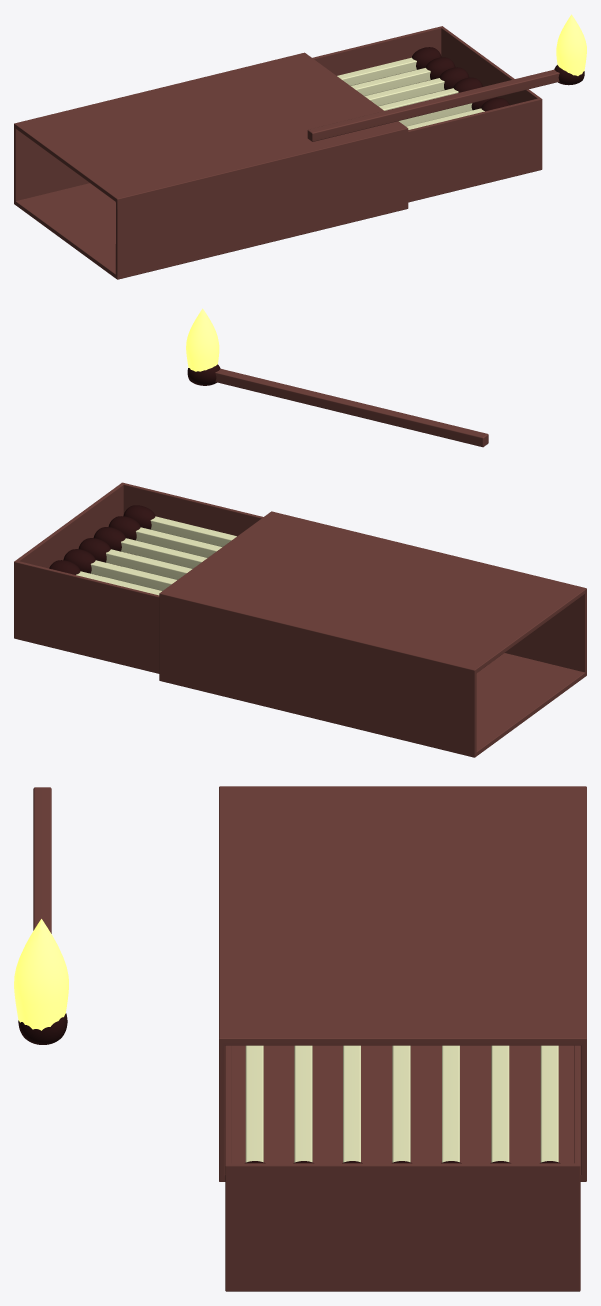
3 renders of one model, top to bottom at view 1: azimuth 30°, elevation 25°; view 2: azimuth 150°, elevation 25°; view 3: azimuth 270°, elevation 25°, orthographic. The views are drawn at different scales.
Visible parts, largest first — view 1: 内盒, 外盒, group21_pCube26, 火, group21_pCube20, group21_pCube22, group21_pCube21, group21_pCube24, group21_pCube23, group21_pSphere9, group21_pSphere10, group21_pSphere8 (+1 smaller); view 2: 内盒, 外盒, group21_pCube26, 火, group21_pCube23, group21_pCube22, group21_pCube24, group21_pCube26_2, group21_pCube25; view 3: 内盒, 外盒, 火, group21_pCube26, group21_pCube25, group21_pCube23, group21_pCube26_2, group21_pCube20, group21_pCube21, group21_pCube24, group21_pCube22, group21_pSphere14.
Part boxes in pixels (x1=…): 内盒: x1=14, y1=52, x2=408, y2=279; 外盒: x1=312, y1=26, x2=542, y2=202; group21_pCube26: x1=307, y1=69, x2=559, y2=141; 火: x1=556, y1=14, x2=586, y2=75; group21_pCube20: x1=337, y1=57, x2=416, y2=85; group21_pCube22: x1=365, y1=78, x2=444, y2=106; group21_pCube21: x1=351, y1=68, x2=430, y2=95; group21_pCube24: x1=399, y1=103, x2=472, y2=126; group21_pCube23: x1=378, y1=88, x2=458, y2=110; group21_pSphere9: x1=425, y1=57, x2=455, y2=79; group21_pSphere10: x1=439, y1=67, x2=469, y2=89; group21_pSphere8: x1=411, y1=47, x2=441, y2=69; 内盒: x1=159, y1=511, x2=586, y2=757; 外盒: x1=14, y1=482, x2=263, y2=673; group21_pCube26: x1=215, y1=368, x2=488, y2=447; 火: x1=186, y1=308, x2=219, y2=371; group21_pCube23: x1=106, y1=549, x2=192, y2=579; group21_pCube22: x1=90, y1=560, x2=176, y2=590; group21_pCube24: x1=121, y1=538, x2=207, y2=568; group21_pCube26_2: x1=150, y1=516, x2=236, y2=546; group21_pCube25: x1=136, y1=527, x2=221, y2=557; 内盒: x1=219, y1=786, x2=586, y2=1181; 外盒: x1=225, y1=1045, x2=580, y2=1291; 火: x1=14, y1=919, x2=68, y2=1030; group21_pCube26: x1=33, y1=787, x2=51, y2=933; group21_pCube25: x1=294, y1=1045, x2=312, y2=1162; group21_pCube23: x1=392, y1=1045, x2=410, y2=1162; group21_pCube26_2: x1=245, y1=1045, x2=263, y2=1162; group21_pCube20: x1=540, y1=1045, x2=558, y2=1162; group21_pCube21: x1=491, y1=1045, x2=509, y2=1162; group21_pCube24: x1=343, y1=1045, x2=360, y2=1162; group21_pCube22: x1=442, y1=1045, x2=459, y2=1162; group21_pSphere14: x1=18, y1=1013, x2=67, y2=1044.
Size of the model in its own units: 439 by 200 by 287.
